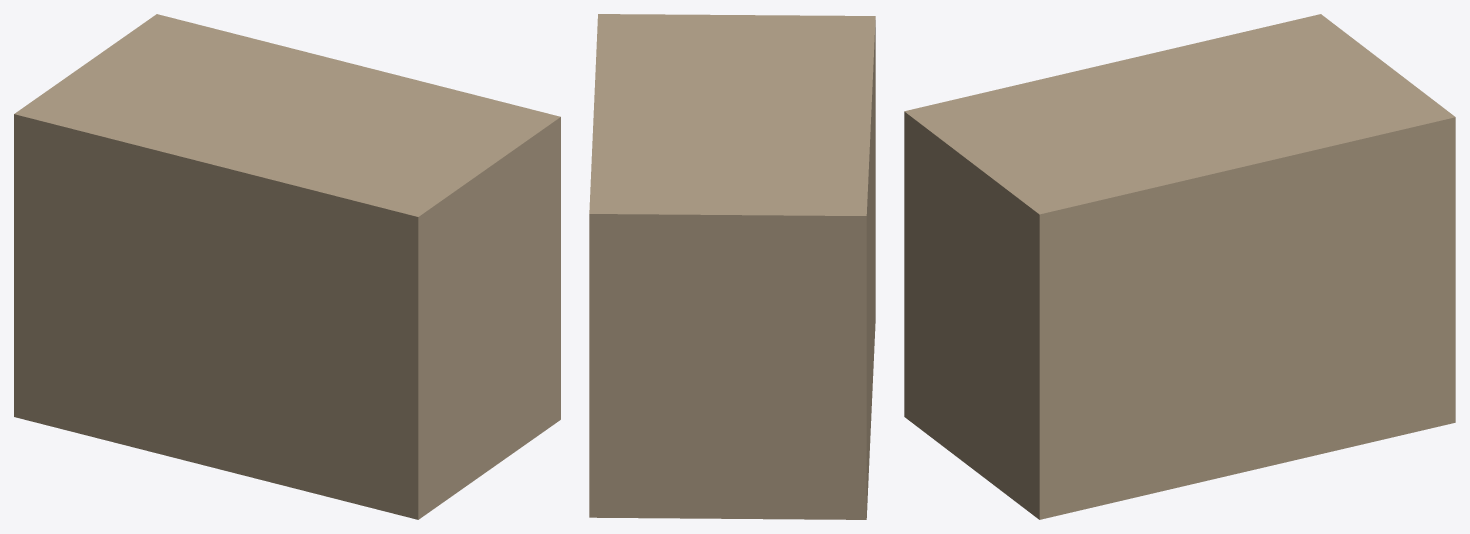
The model's file is bld_109034818.dae.
The picture shows the model from 3 angles, left to right: view 1: azimuth 30°, elevation 25°; view 2: azimuth 150°, elevation 25°; view 3: azimuth 270°, elevation 25°; orthographic projection.
Visible parts, largest first — view 1: bld_109034818; view 2: bld_109034818; view 3: bld_109034818.
Part boxes in pixels (x1,y1,x2,y2): bld_109034818: (14, 14, 560, 519); bld_109034818: (589, 14, 875, 519); bld_109034818: (904, 14, 1455, 519).
Size of the model in its own units: 11.26 by 13.09 by 8.
